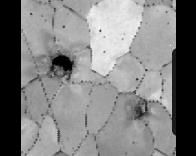good_void: (37, 38, 80, 83), (126, 95, 148, 125), (27, 10, 34, 16), (96, 28, 102, 34), (133, 77, 139, 83), (59, 24, 66, 29), (100, 49, 105, 54), (96, 81, 101, 86), (163, 10, 168, 15)
